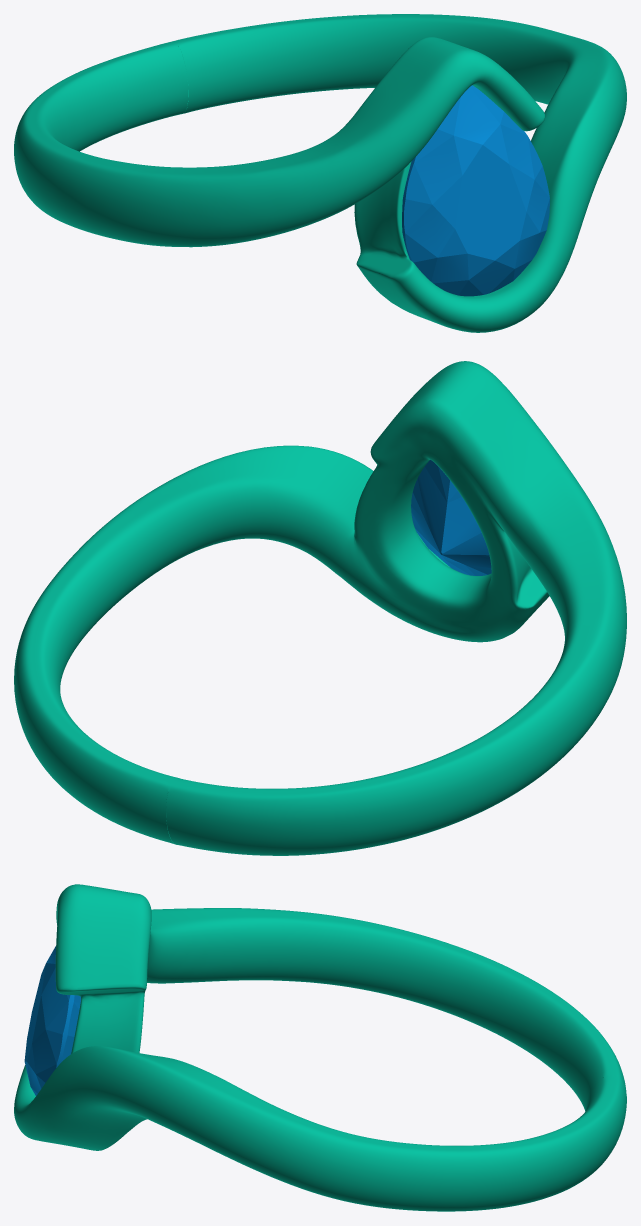
The picture shows the model from 3 angles, top to bottom: view 1: azimuth 30°, elevation 25°; view 2: azimuth 150°, elevation 25°; view 3: azimuth 270°, elevation 25°; orthographic projection. The views are drawn at different scales.
Visible parts, largest first — view 1: for render.3dm, Diamond_Pear; view 2: for render.3dm, Diamond_Pear; view 3: for render.3dm, Diamond_Pear.
Part boxes in pixels (box(x1,y1,x2,y2)): for render.3dm: box(14, 14, 626, 332); Diamond_Pear: box(402, 85, 549, 296); for render.3dm: box(14, 361, 626, 855); Diamond_Pear: box(411, 460, 491, 575); for render.3dm: box(14, 884, 626, 1211); Diamond_Pear: box(24, 946, 80, 1095).
Size of the model in its own units: 2.55 by 1.26 by 2.81.
